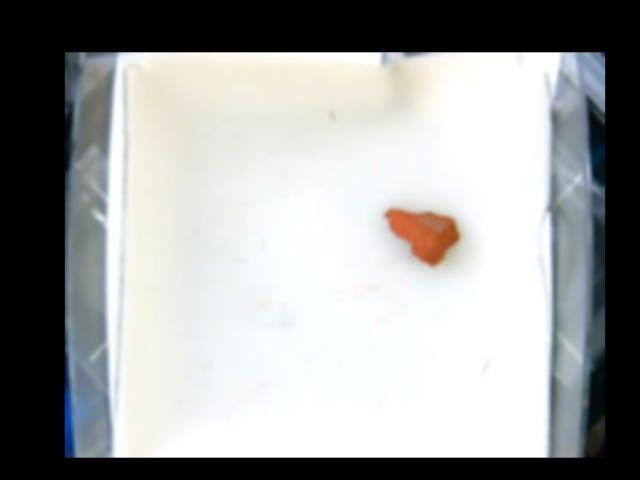Brisk: (384, 204, 459, 265)
